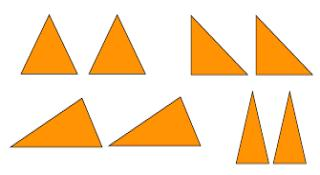Triangle: (109, 96, 201, 145), (11, 98, 102, 146), (20, 12, 78, 74), (89, 13, 145, 74), (191, 16, 248, 75), (257, 14, 312, 74), (273, 90, 307, 162), (238, 92, 268, 162)
